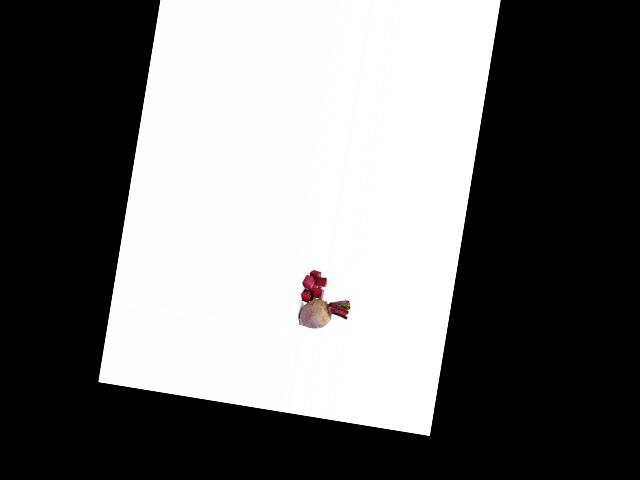beet: (297, 292, 350, 333)
